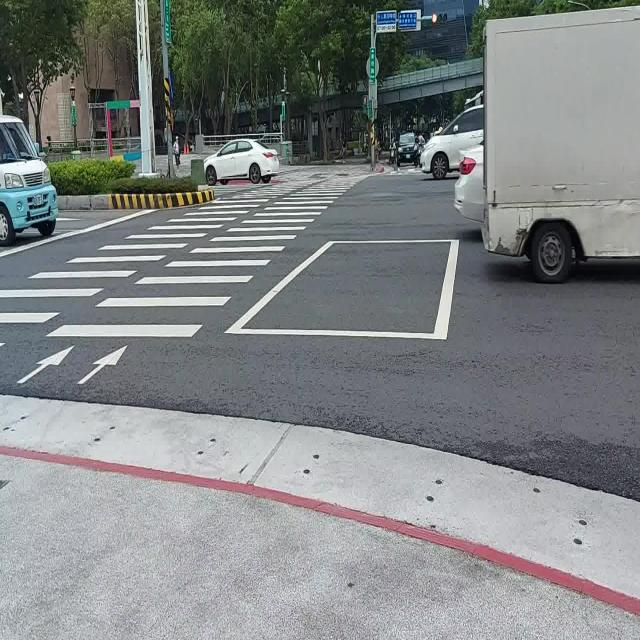car: (420, 104, 484, 178), (205, 138, 279, 187), (454, 144, 484, 222), (398, 131, 416, 162)
crosswalk: (0, 178, 328, 348), (40, 176, 368, 337)
motocycle: (389, 142, 395, 164)
trunk: (482, 7, 640, 282), (0, 116, 58, 243)
